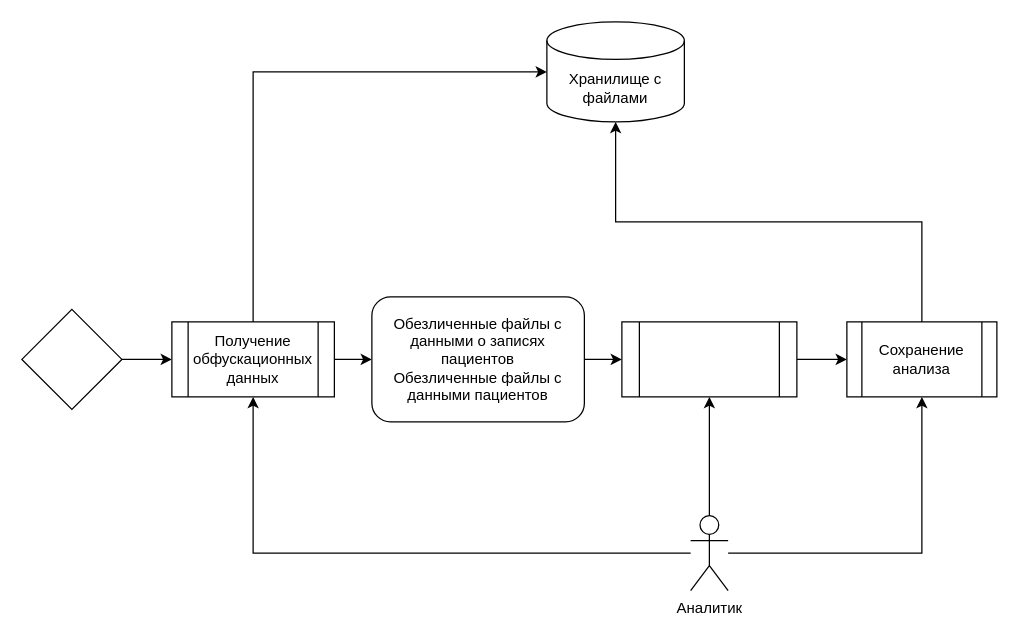
Image size: 1019x639. Some labels were removed from this diagram. Each missing label, with the centre of its shape:
"Анализ данных" belongs at point 709,359.
"Начало" belongs at point 71,358.
